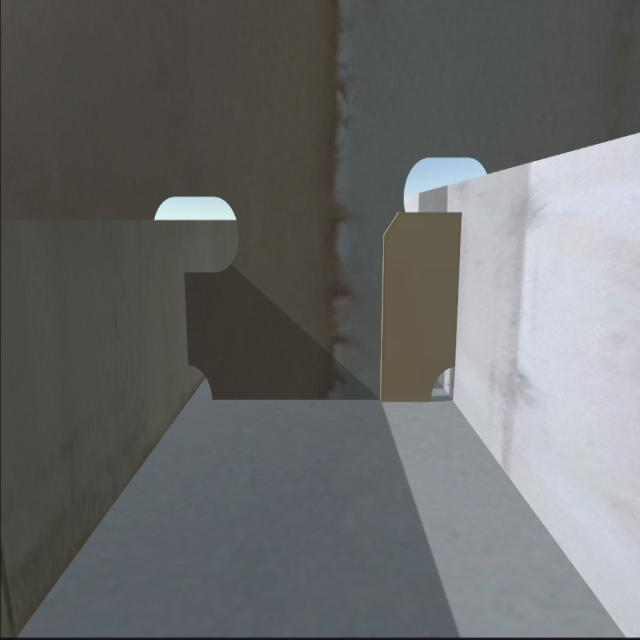fillet_hole: (184, 363, 215, 405), (430, 361, 458, 404)
fillet_yong_jeop_jang: (210, 390, 432, 411)
longi_yong_jeop_jang: (450, 208, 465, 365), (180, 271, 196, 361)
plate_CP03: (381, 207, 458, 401)
